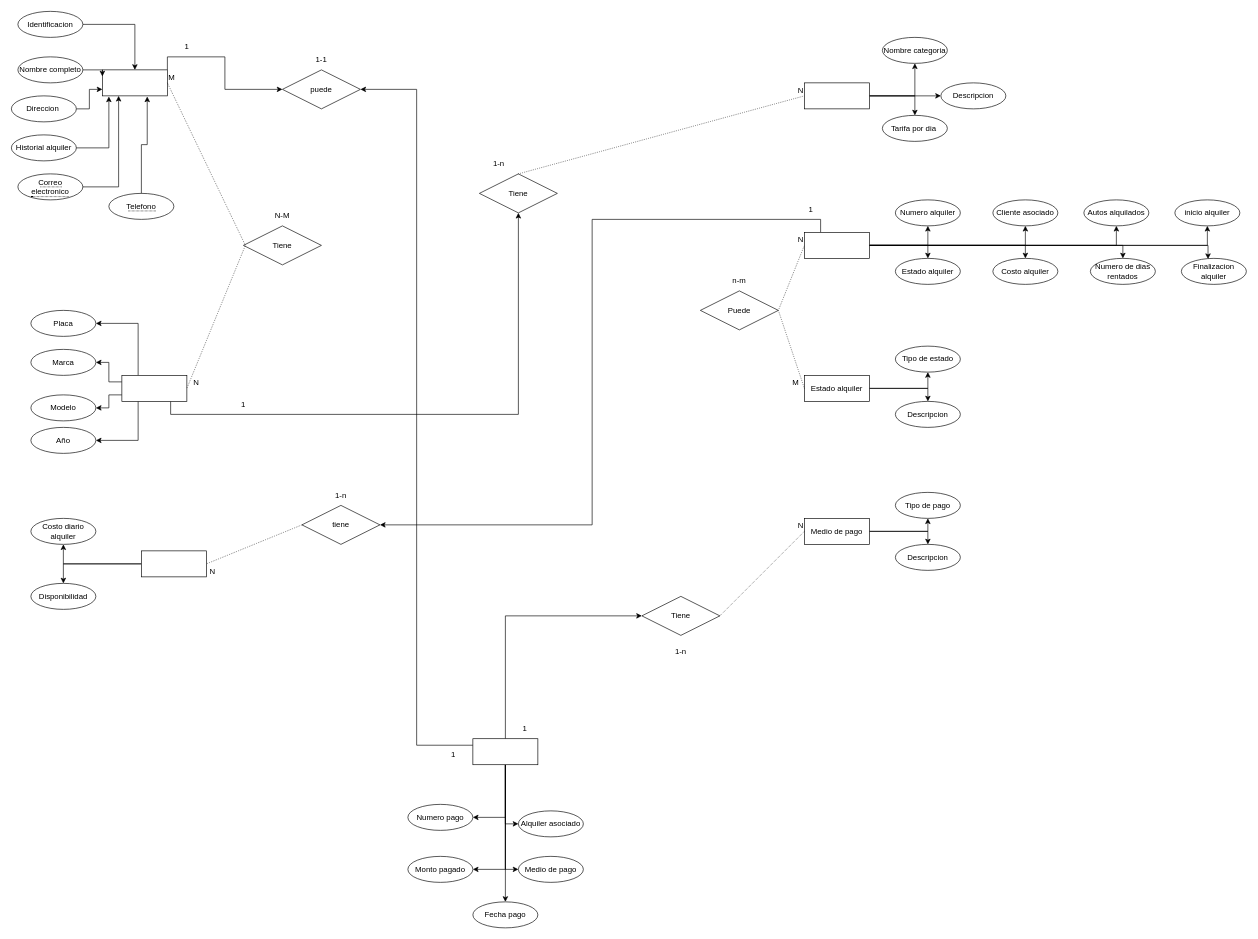
The diagram is 1258 pixels wide and 939 high, and some of its shapes have lost their labels. Here are the shapes that lost their labels. From the top down, the centre of each, then its label:
(134,82): Cliente
(836,95): Categoria del auto
(836,245): Alquiler
(154,388): Auto
(173,563): Categoria
(505,751): Pago
